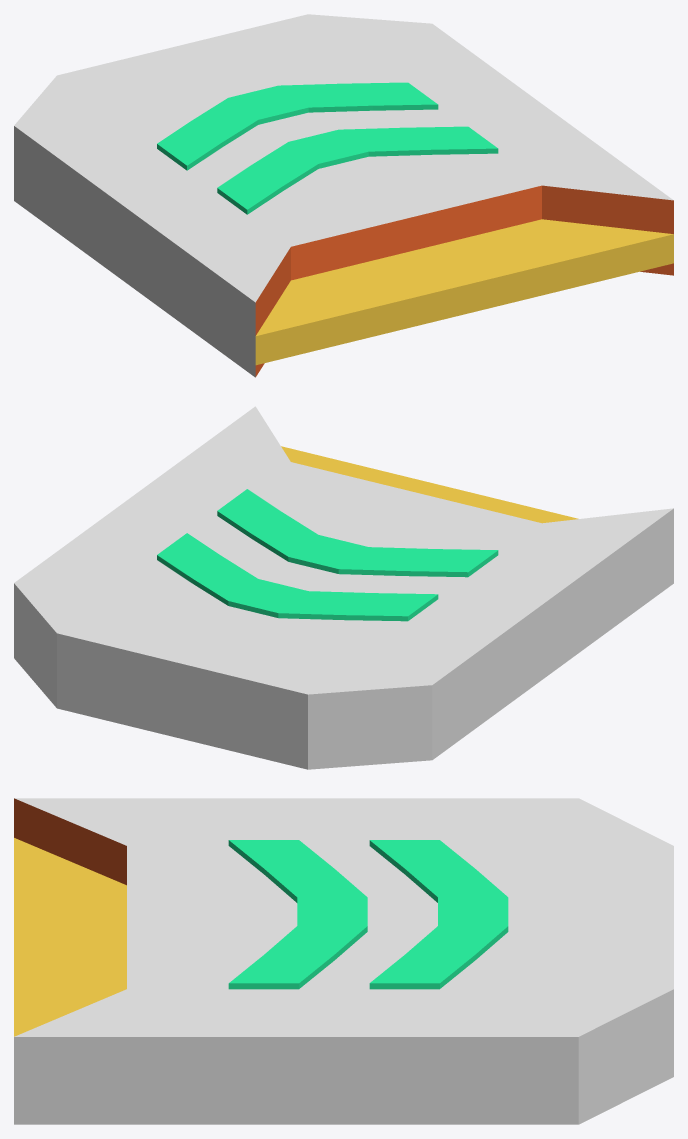
File: Upgrade_Speed_03.fbx
The picture shows the model from 3 angles, top to bottom: view 1: azimuth 30°, elevation 25°; view 2: azimuth 150°, elevation 25°; view 3: azimuth 270°, elevation 25°; orthographic projection. The views are drawn at different scales.
Parts seen in each view (by area): view 1: Cube.001; view 2: Cube.001; view 3: Cube.001.
Part boxes in pixels (x1,y1,x2,y2): Cube.001: [14, 14, 673, 377]; Cube.001: [14, 406, 673, 769]; Cube.001: [14, 798, 673, 1124].
Size of the model in its own units: 86.17 by 16.77 by 101.
